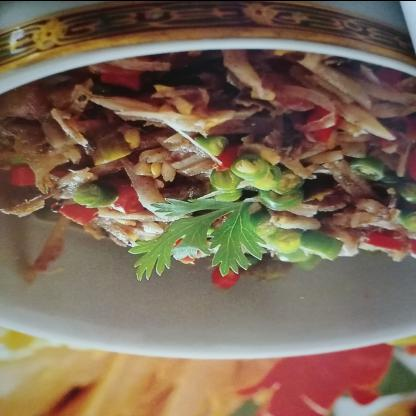Namprig: (8, 21, 416, 355)
